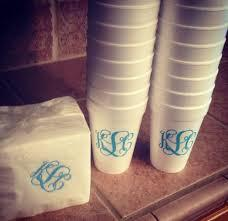Plastic cup: (4, 1, 228, 221)
